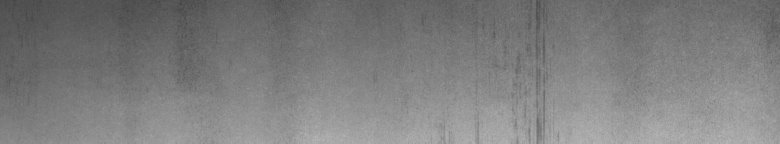ka: (493, 4, 554, 136)
